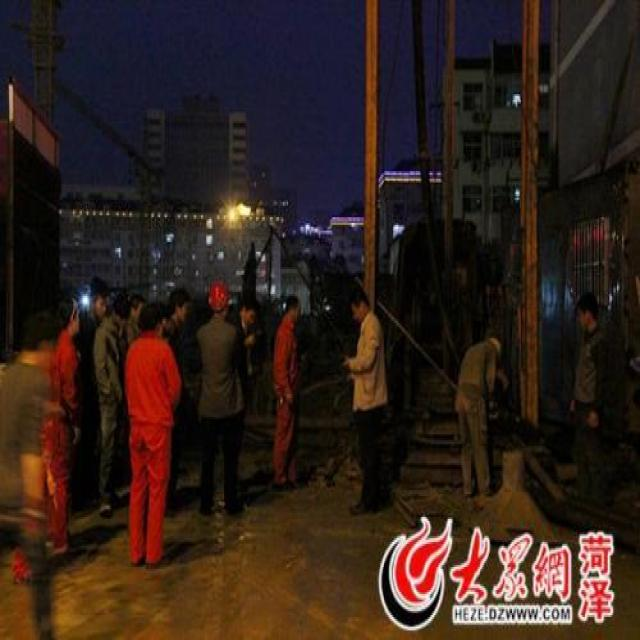helmet: (206, 275, 234, 319)
no-helmet: (23, 306, 61, 369), (573, 286, 603, 336), (134, 296, 164, 338), (166, 284, 194, 328), (347, 284, 375, 327), (60, 288, 82, 340), (88, 278, 109, 326), (110, 292, 132, 335), (280, 288, 302, 329), (239, 292, 261, 333)
